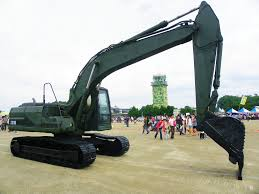excavator: (9, 7, 248, 177)
